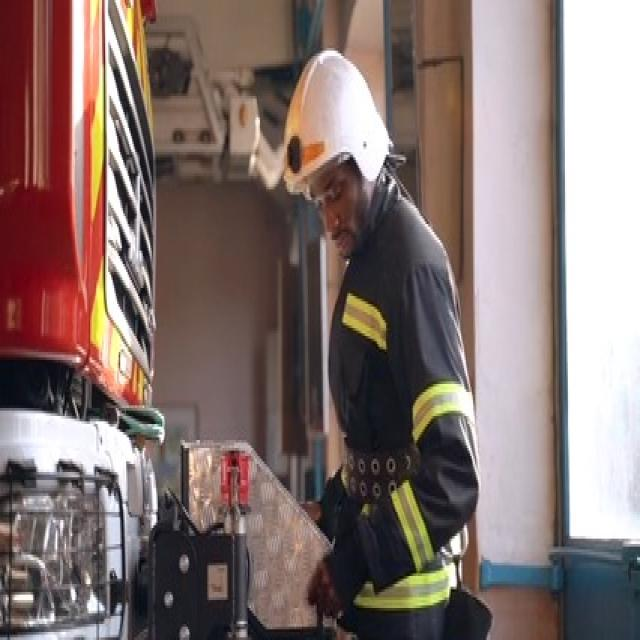Helmet_Wearer: (280, 42, 399, 241)
Jacket_Wearer: (324, 191, 483, 606)
Person: (274, 52, 476, 640)
